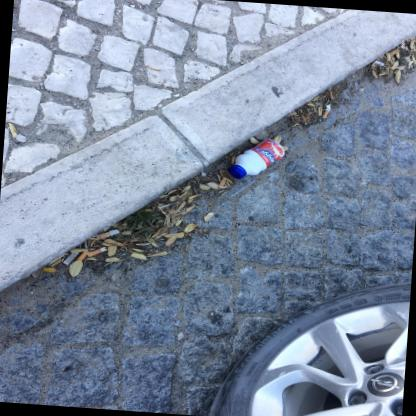Paper: (96, 230, 119, 240), (63, 252, 79, 265), (88, 247, 108, 257), (321, 105, 331, 119), (76, 251, 90, 261), (218, 177, 227, 188), (375, 60, 384, 66), (329, 91, 333, 101)
Plastic: (228, 139, 285, 179), (228, 166, 245, 179)
